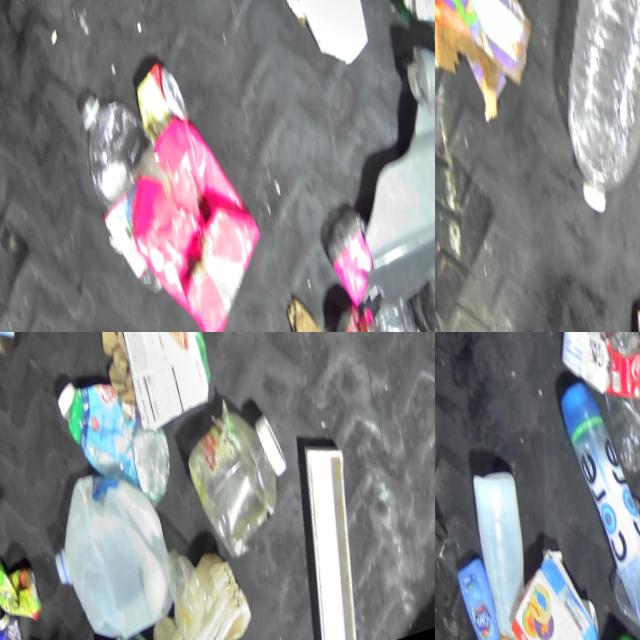can: (123, 53, 193, 165), (542, 332, 620, 407), (0, 548, 41, 638), (0, 608, 43, 640)
milk_jug: (38, 467, 171, 640)
non_white_jug: (546, 369, 640, 640)
plastic_bottle: (522, 0, 640, 228), (66, 76, 175, 319), (314, 197, 426, 332), (574, 332, 640, 485)
